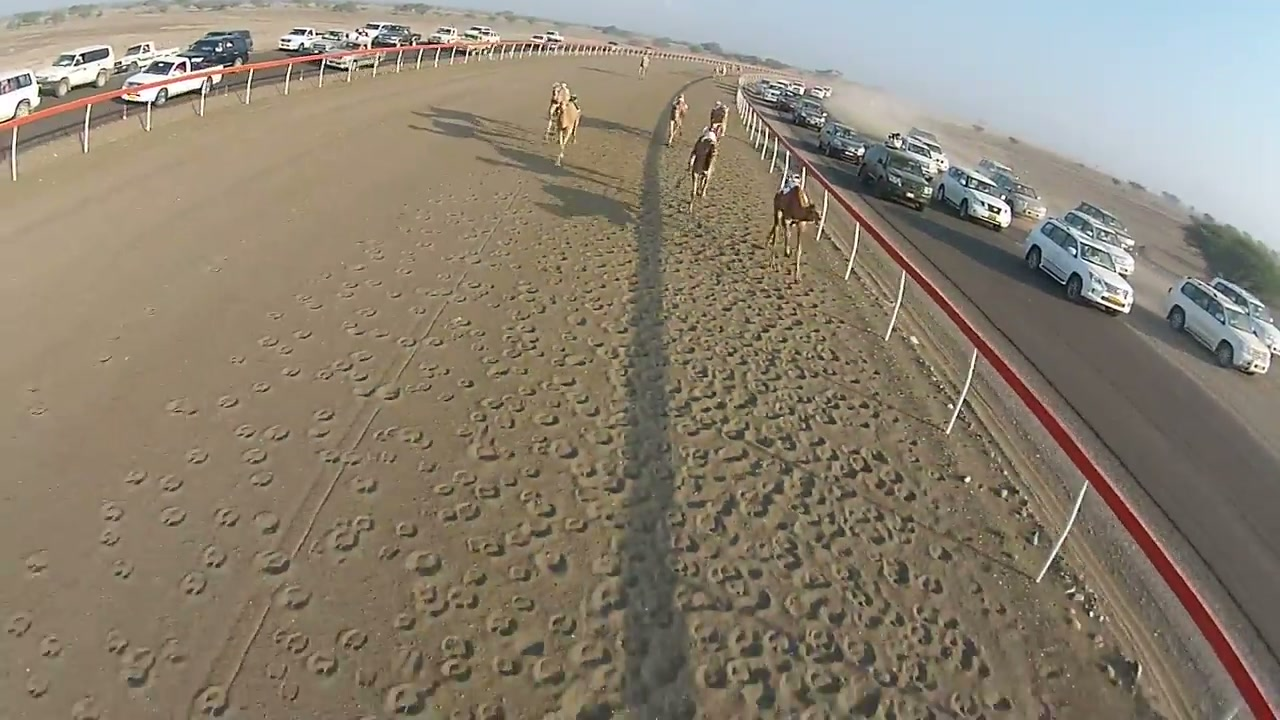animal_foot_print: (0, 130, 1136, 719)
